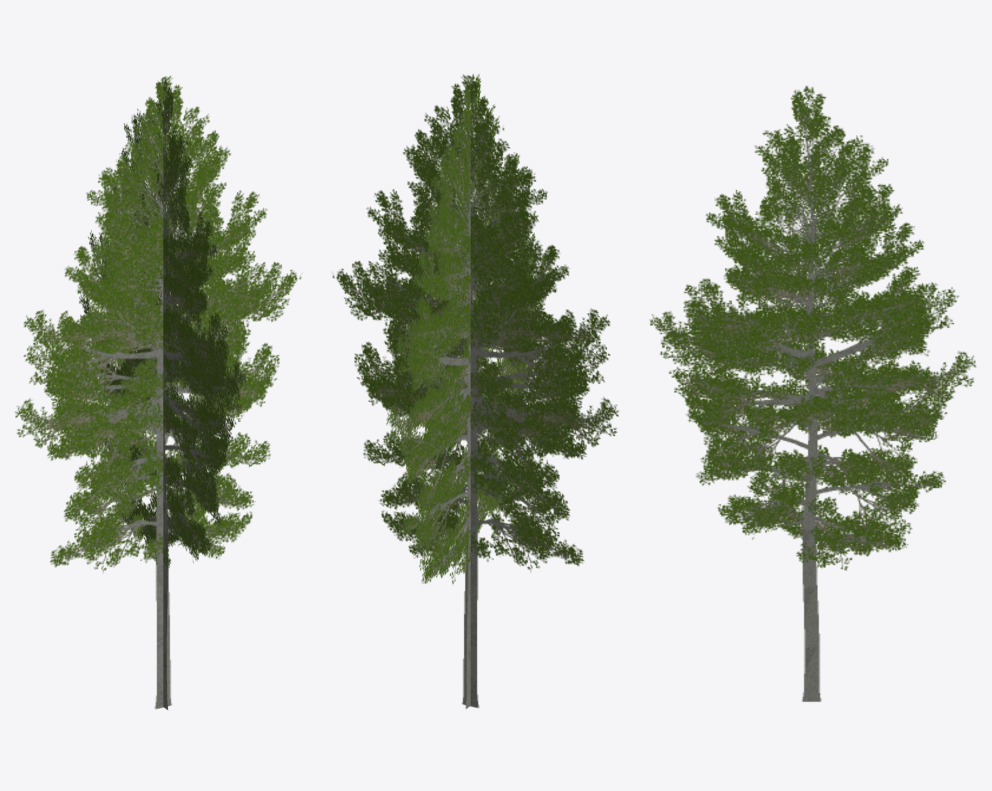
The model's file is AlnusRubra.glb.
3 renders of one model, left to right at view 1: azimuth 30°, elevation 25°; view 2: azimuth 150°, elevation 25°; view 3: azimuth 270°, elevation 25°, orthographic. The views are drawn at different scales.
Parts seen in each view (by area): view 1: mesh__mat_billboard_5; view 2: mesh__mat_billboard_5; view 3: mesh__mat_billboard_5.
Part boxes in pixels (x1=…): mesh__mat_billboard_5: x1=15, y1=75, x2=301, y2=709; mesh__mat_billboard_5: x1=332, y1=74, x2=618, y2=708; mesh__mat_billboard_5: x1=649, y1=86, x2=976, y2=701.
Size of the model in its own units: 11.11 by 23.5 by 11.24.
1 material, 1 textured.
